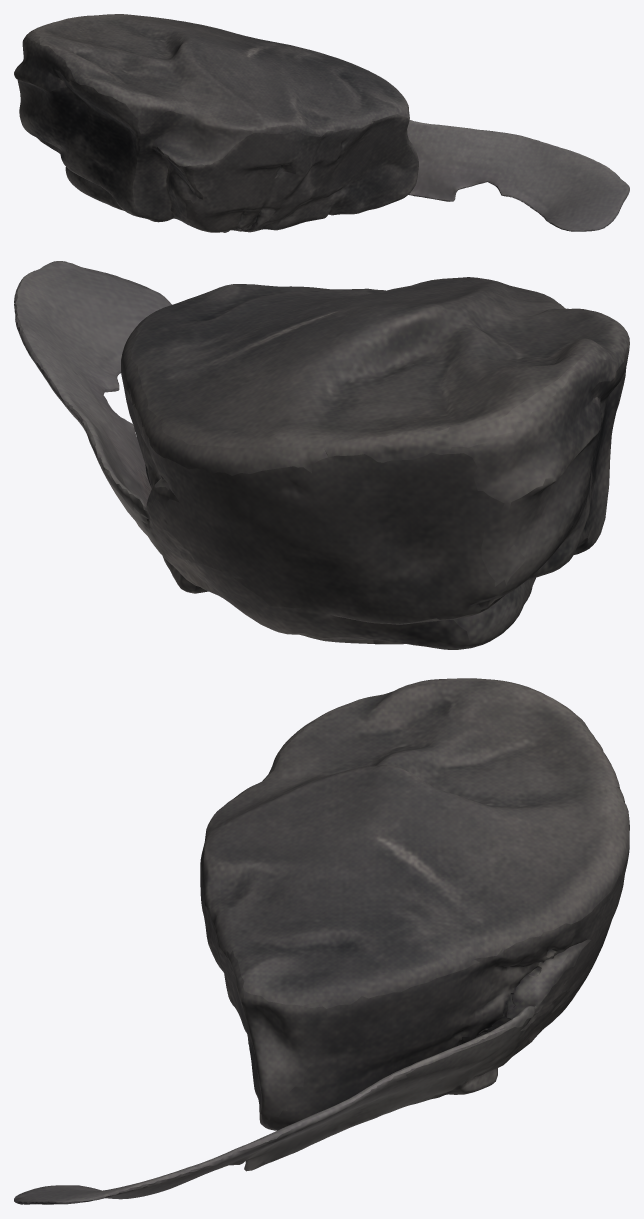
The picture shows the model from 3 angles, top to bottom: view 1: azimuth 30°, elevation 25°; view 2: azimuth 150°, elevation 25°; view 3: azimuth 270°, elevation 25°; orthographic projection. The views are drawn at different scales.
Visible parts, largest first — view 1: world; view 2: world; view 3: world.
Boxes of the visible parts, x1,y1,x2,y2 form: world: [14, 14, 629, 232]; world: [14, 261, 629, 649]; world: [14, 678, 629, 1204].
Bounding box in the file's own units: 1.2 × 0.4564 × 0.9694.
1 material, 1 textured.
